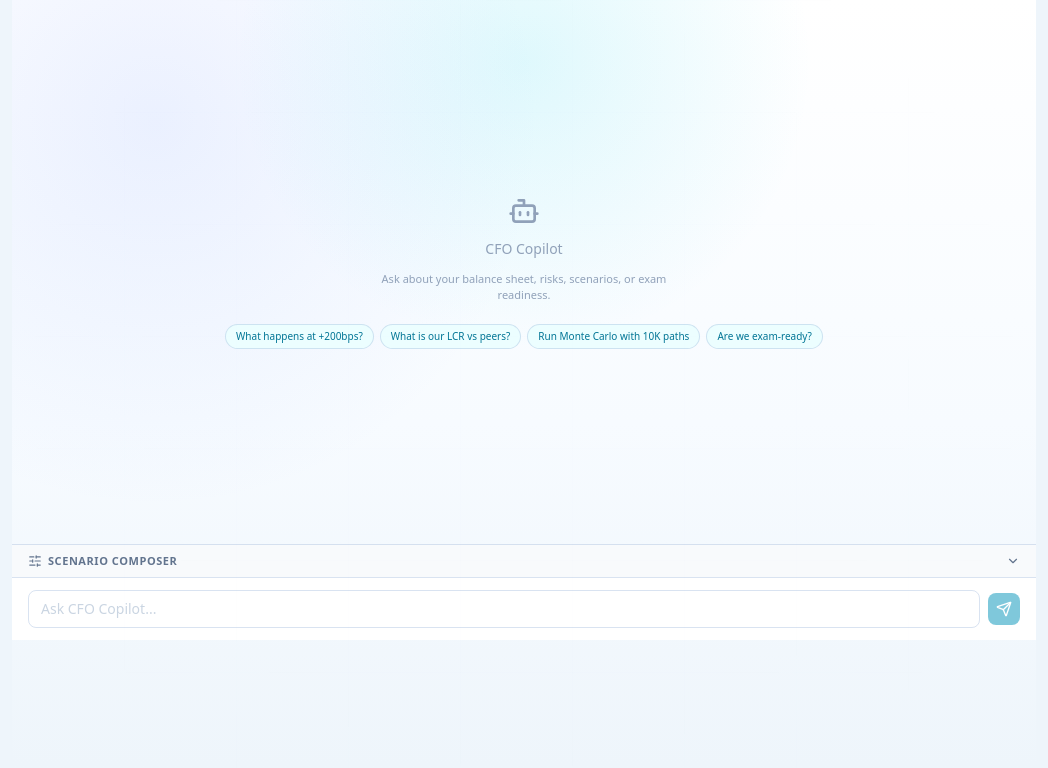
CopilotPage › sends message and displays response
In the field with placeholder "Ask CFO Copilot...": x=504, y=609 [28,590,980,628], type "What happens at +200bps?"
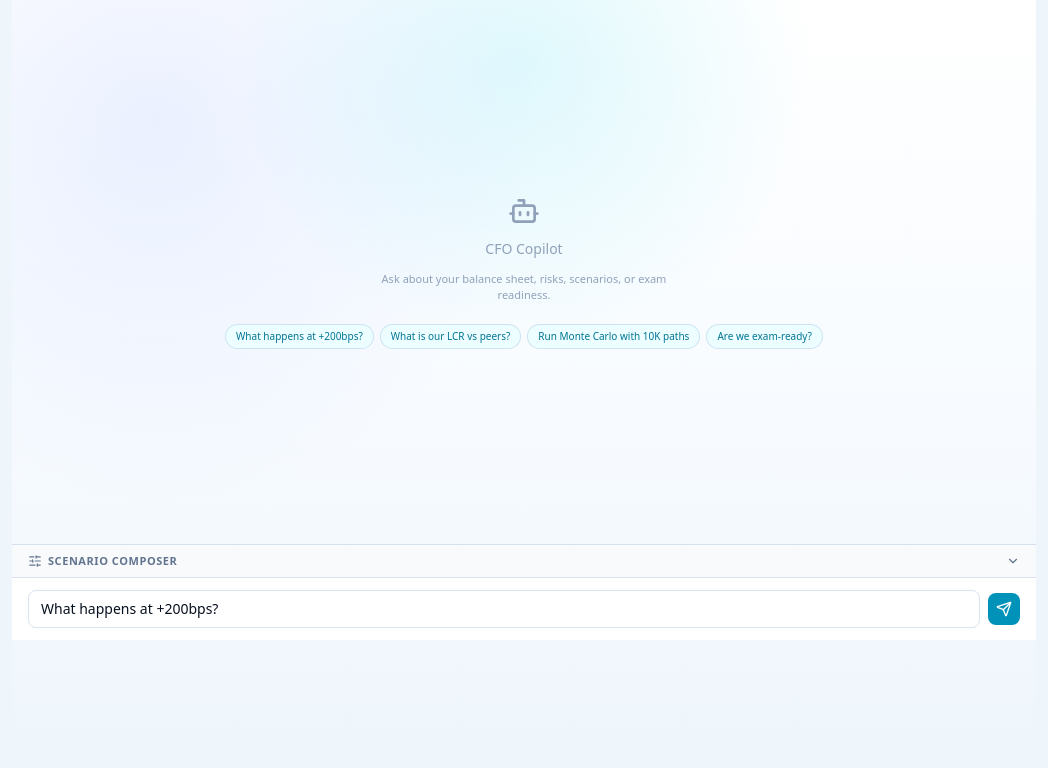
Submit the form with placeholder "Ask CFO Copilot...", box [28,590,1020,628]
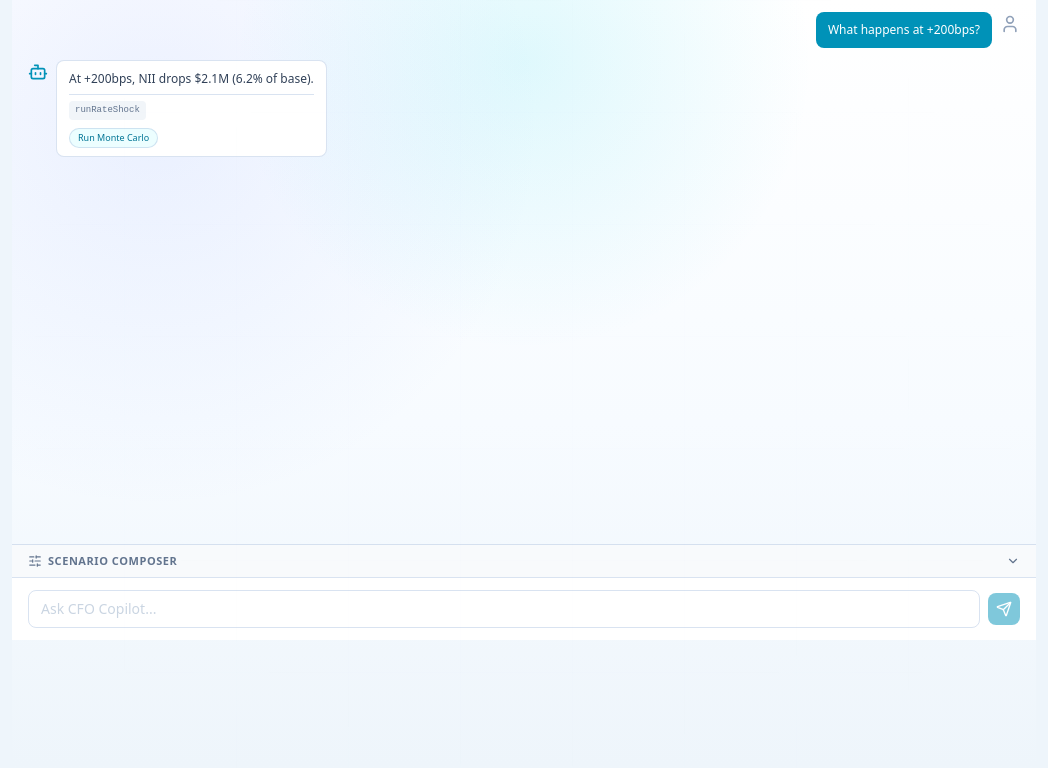
expect the button "Run Monte Carlo" is shown: met, box [69,128,158,148]
expect the text "At +200bps, NII drops $2.1M (6.2% of base)." is shown: met, box [69,68,314,88]
expect the text "runRateShock" is shown: met, box [69,101,146,120]
